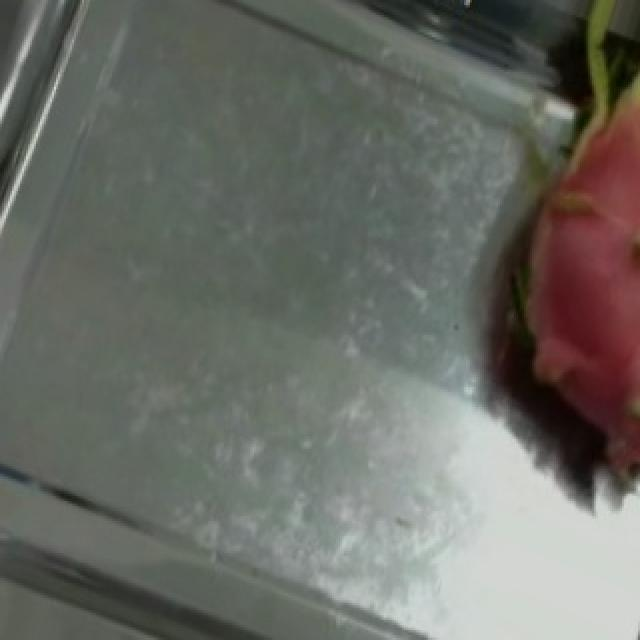fruit: (374, 5, 640, 404)
